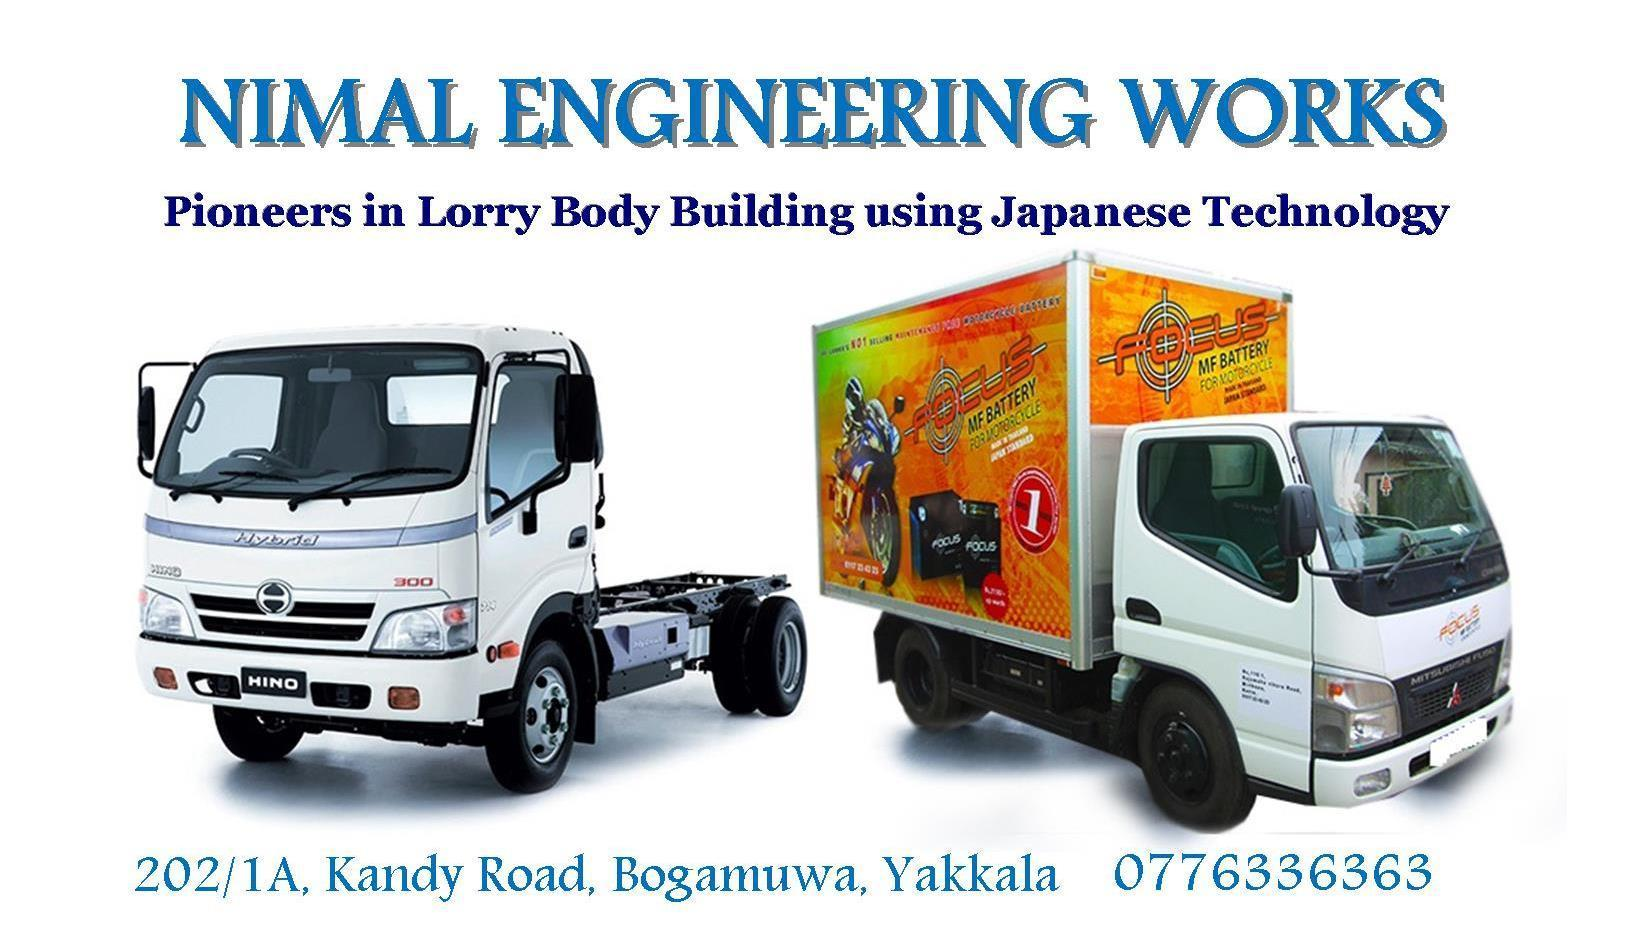truck: (810, 250, 1514, 835), (136, 323, 805, 794)
